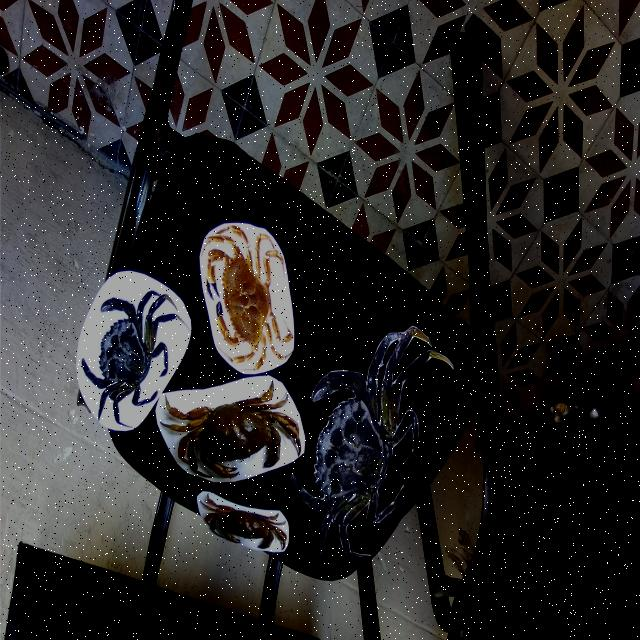European_Green_Crab: (271, 256, 455, 607), (67, 240, 191, 462)
